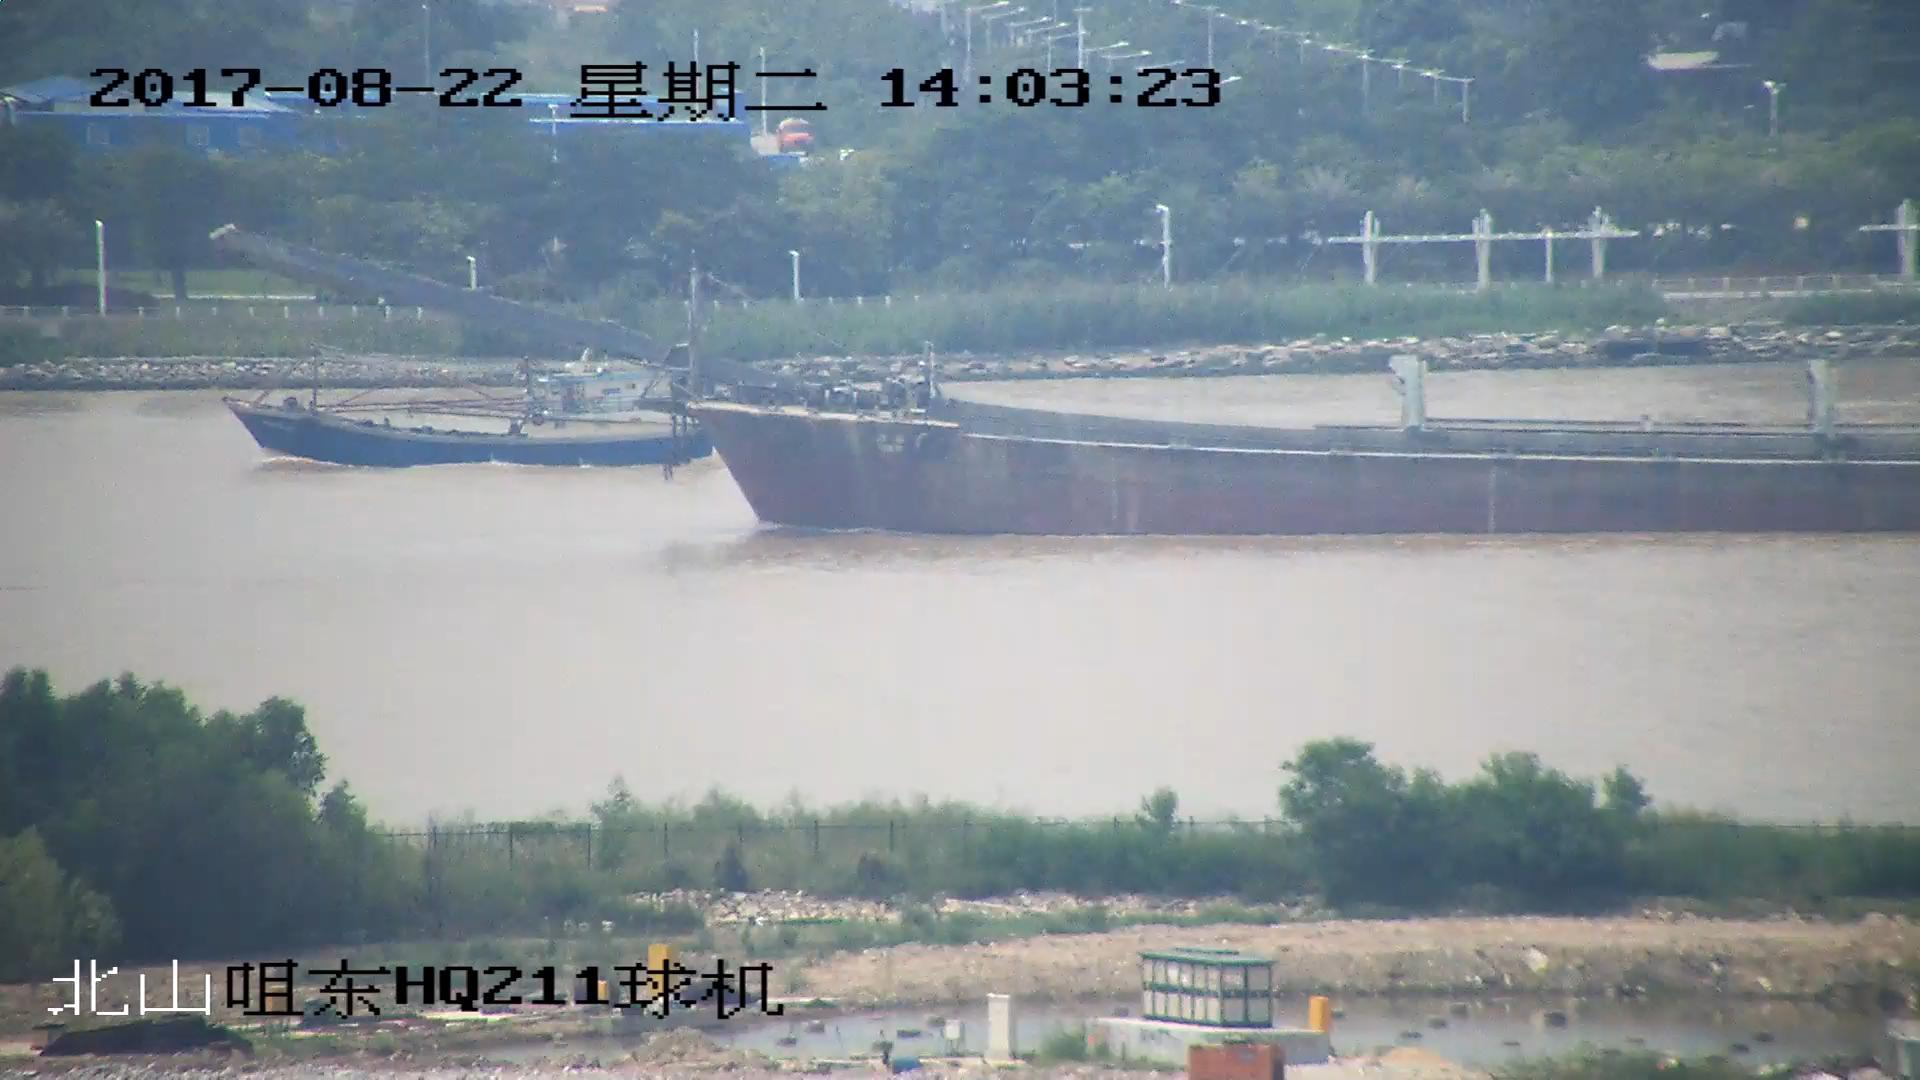Ship: (219, 228, 1920, 533), (228, 349, 707, 465)
